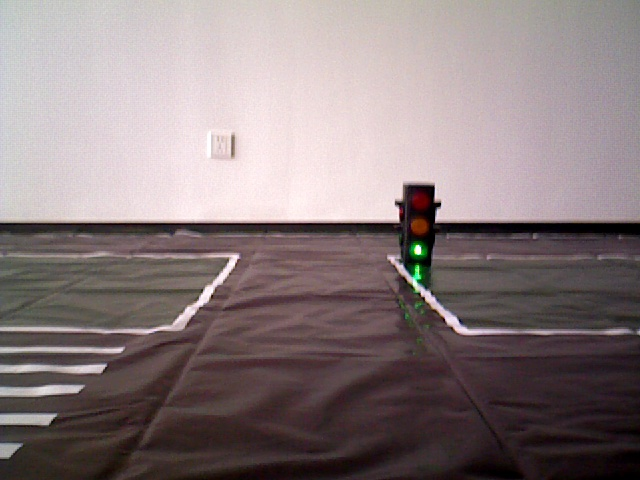green: (400, 183, 431, 262)
